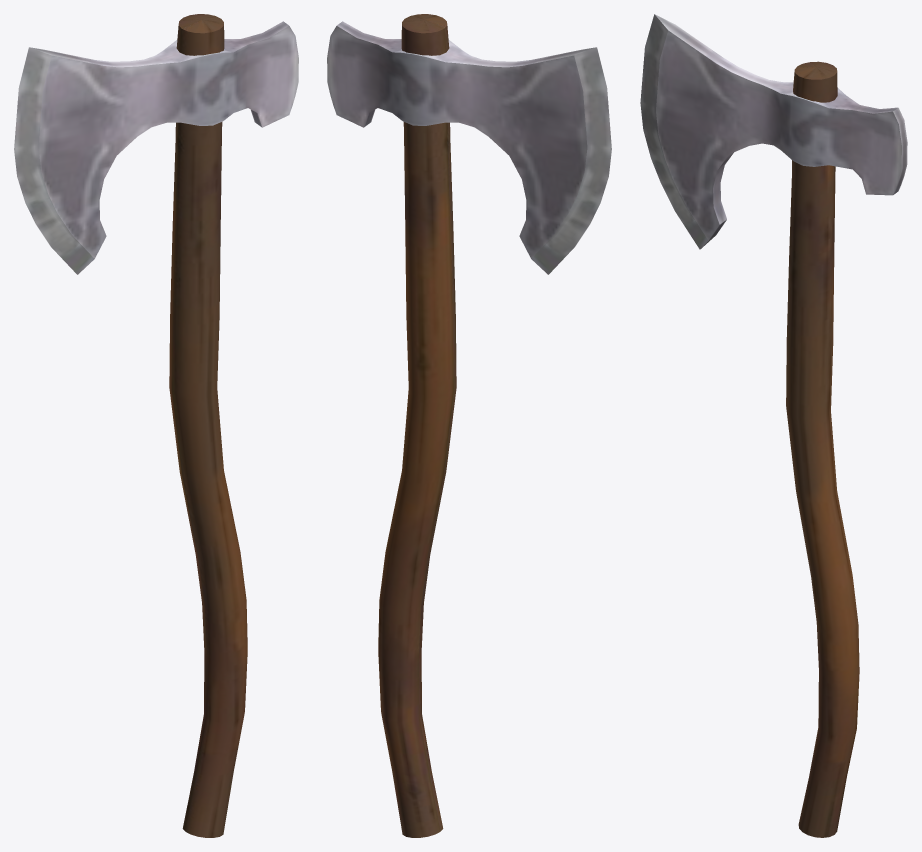
Rendered from Axe_Steel.gltf.
The picture shows the model from 3 angles, left to right: view 1: azimuth 30°, elevation 25°; view 2: azimuth 150°, elevation 25°; view 3: azimuth 330°, elevation 25°; orthographic projection. The views are drawn at different scales.
Parts seen in each view (by area): view 1: Axe_Steel; view 2: Axe_Steel; view 3: Axe_Steel.
Boxes of the visible parts, bbox=[...] form: Axe_Steel: bbox=[14, 14, 298, 837]; Axe_Steel: bbox=[327, 14, 611, 837]; Axe_Steel: bbox=[640, 14, 907, 837].
Bounding box in the file's own units: 0.2945 × 0.8269 × 0.046.
1 material, 1 textured.
